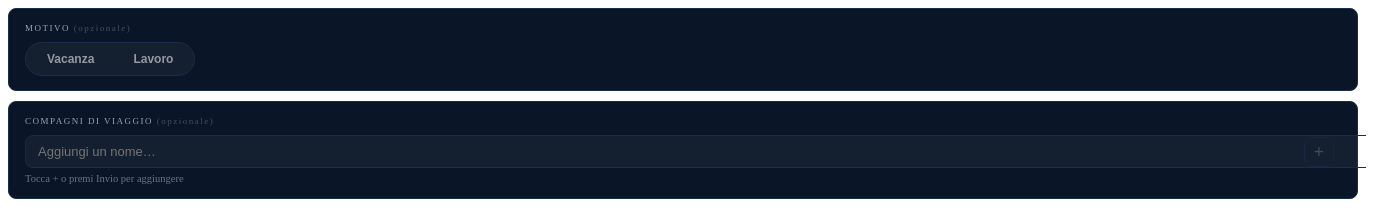
Test: TripPurposeCompanions — aggiungere più persone è VISIBILE › c'è un bottone per aggiungere: si spegne a campo vuoto, si accende scrivendo
The width and height of the screenshot is (1378, 216).
Expected: the button named "Aggiungi il compagno" is disabled, left=1304, top=136, right=1334, bottom=166
Type "Marta" into the dropdown with placeholder "Aggiungi un nome…". click: (696, 152)
box: left=25, top=135, right=1366, bottom=168
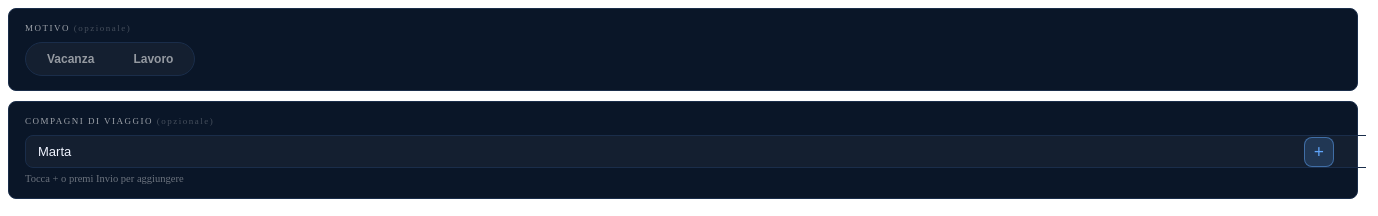
Expected: the button named "Aggiungi il compagno" is enabled, left=1304, top=136, right=1334, bottom=166
